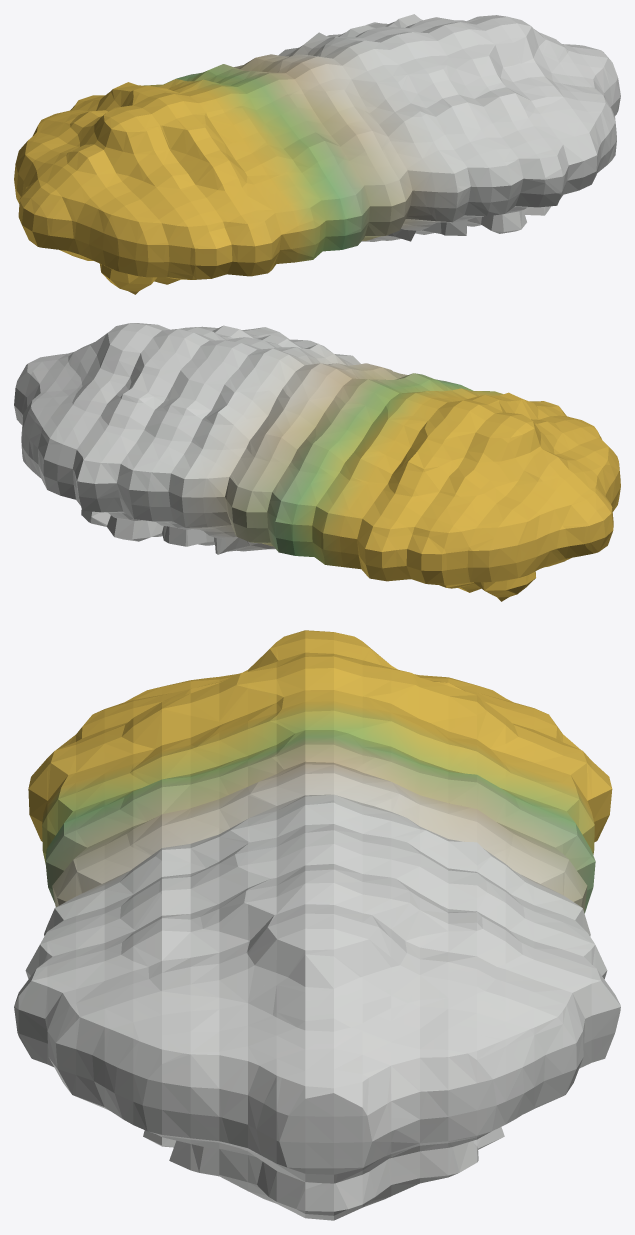
The picture shows the model from 3 angles, top to bottom: view 1: azimuth 30°, elevation 25°; view 2: azimuth 150°, elevation 25°; view 3: azimuth 270°, elevation 25°; orthographic projection. The views are drawn at different scales.
Parts seen in each view (by area): view 1: geometry_0; view 2: geometry_0; view 3: geometry_0.
Boxes of the visible parts, x1,y1,x2,y2 form: geometry_0: (14,14,620,294); geometry_0: (14,323,620,601); geometry_0: (14,630,620,1220).
Bounding box in the file's own units: 1.56 × 0.5111 × 0.9017.
